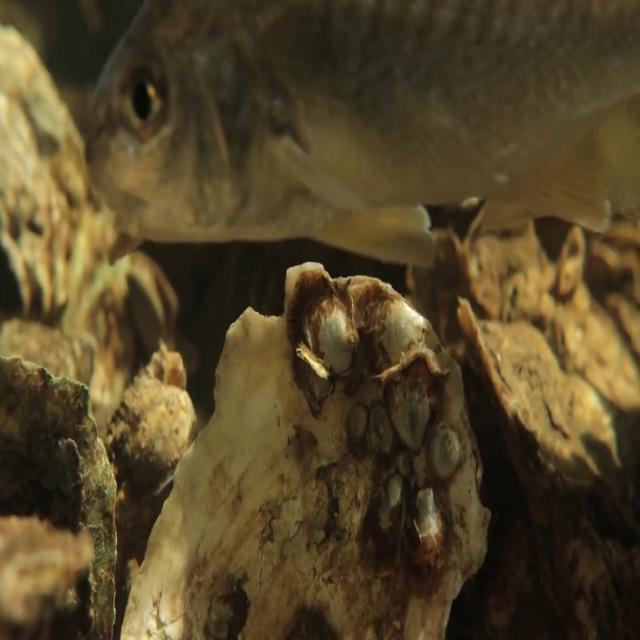Oyster-Closed: (455, 296, 626, 494), (104, 364, 200, 514)
Oyster-Indeterminate: (119, 258, 493, 639), (0, 356, 119, 639)
